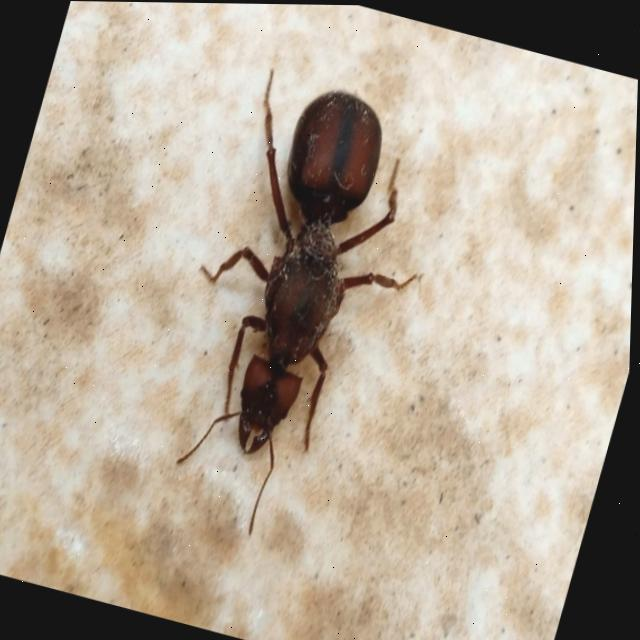Alive-Female-Dealate: (133, 63, 470, 564)
